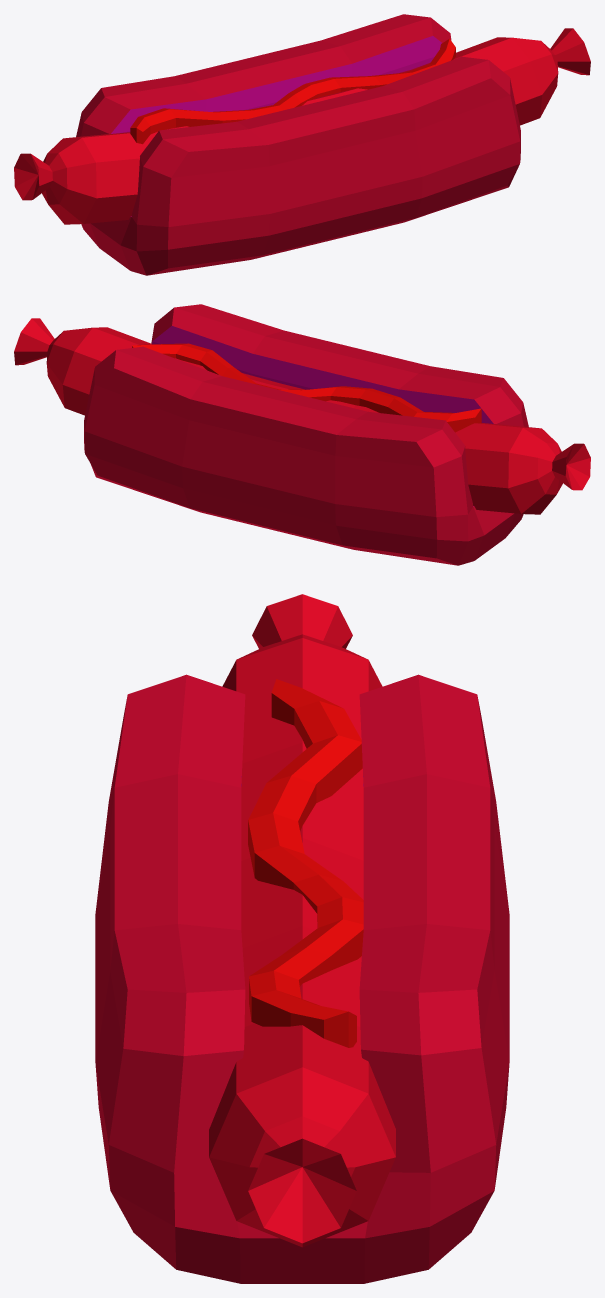
The model's file is HotDog_01.fbx.
The picture shows the model from 3 angles, top to bottom: view 1: azimuth 30°, elevation 25°; view 2: azimuth 150°, elevation 25°; view 3: azimuth 270°, elevation 25°; orthographic projection. The views are drawn at different scales.
Parts seen in each view (by area): view 1: HotDog_01; view 2: HotDog_01; view 3: HotDog_01.
Boxes of the visible parts, bbox=[...] form: HotDog_01: bbox=[14, 14, 590, 275]; HotDog_01: bbox=[14, 304, 590, 565]; HotDog_01: bbox=[95, 594, 509, 1283].
Bounding box in the file's own units: 14.63 × 3.64 × 4.69.
